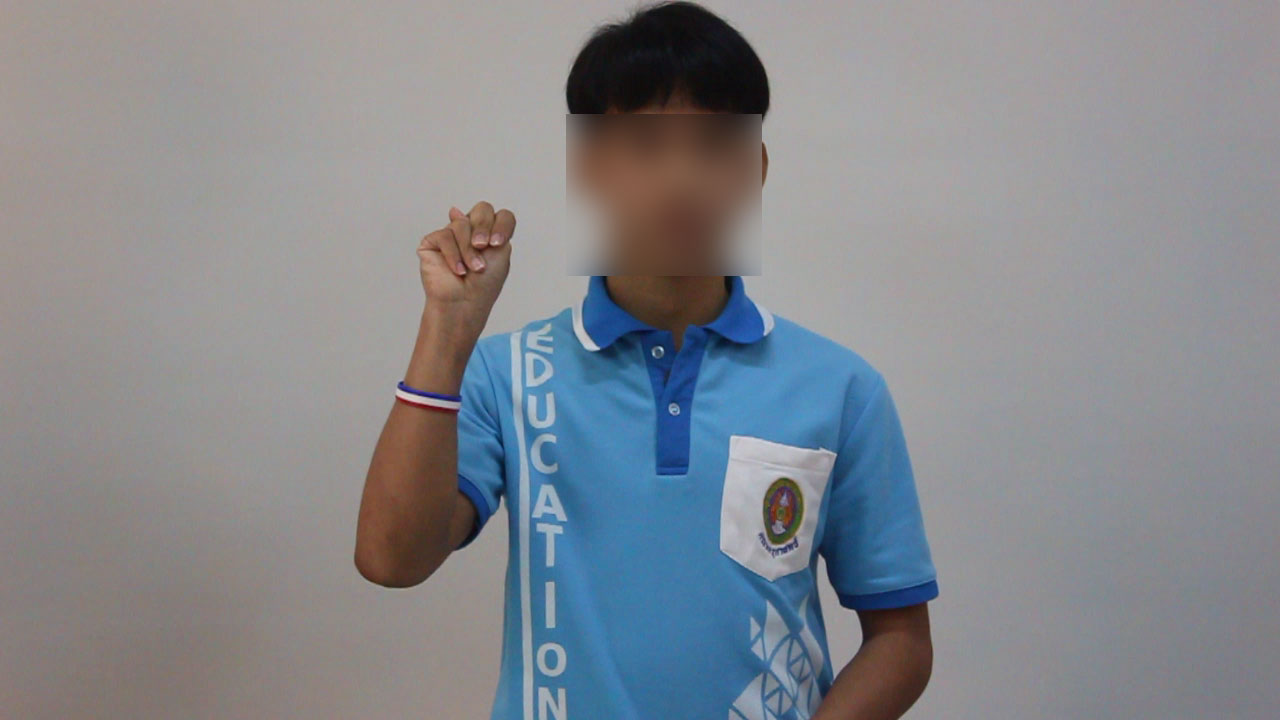nor: (408, 182, 530, 324)
